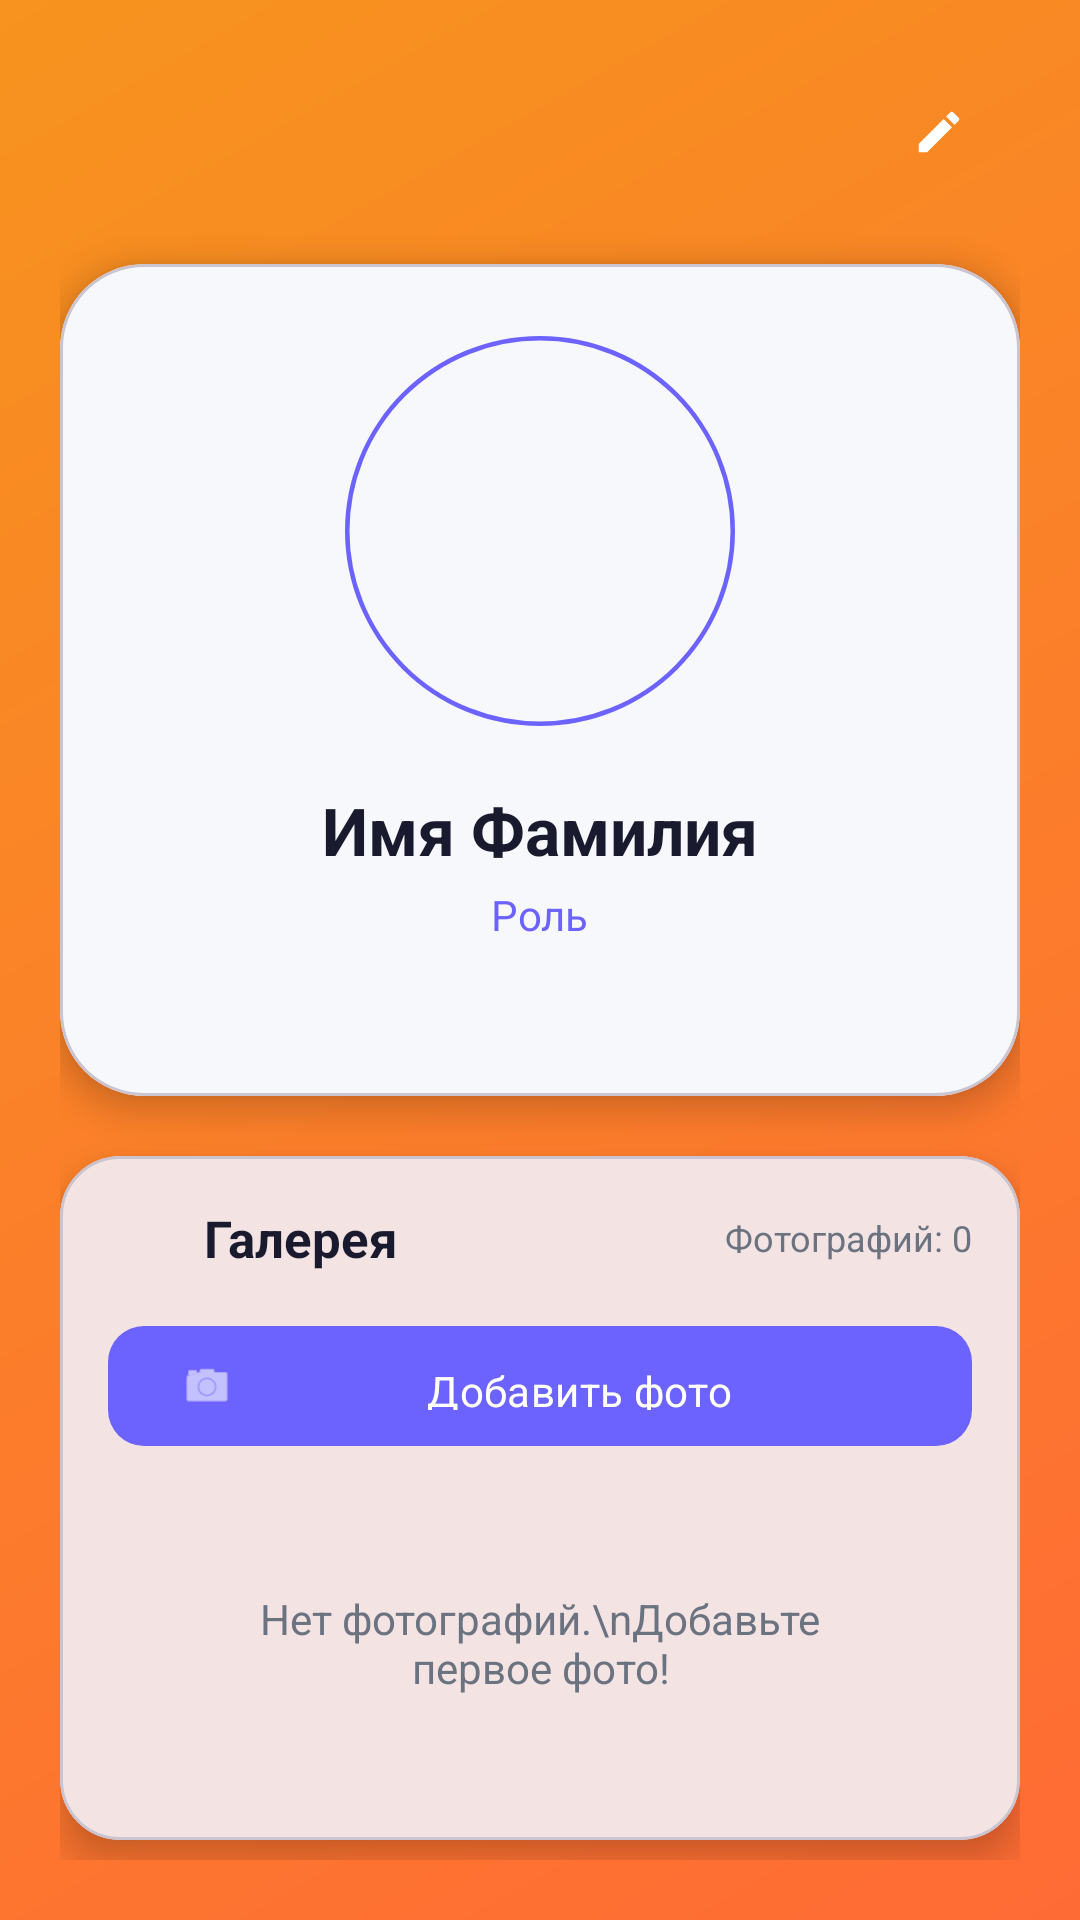

Icons on this 1080px×1920px Android screen, each with the point to tap as (x,y):
edit: (939,132)
